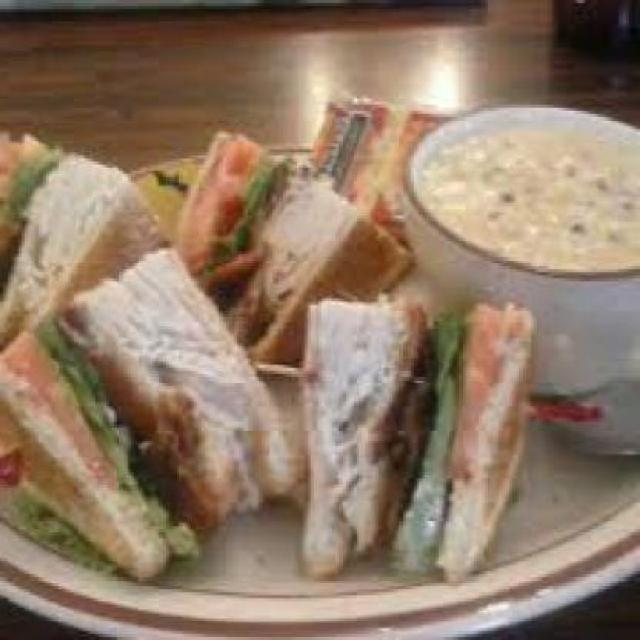club sandwich: (2, 75, 518, 598)
